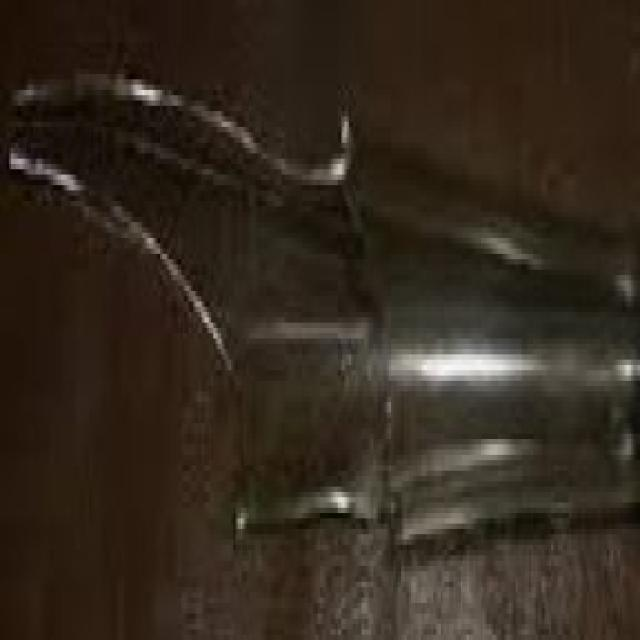electronic: (7, 69, 640, 551)
